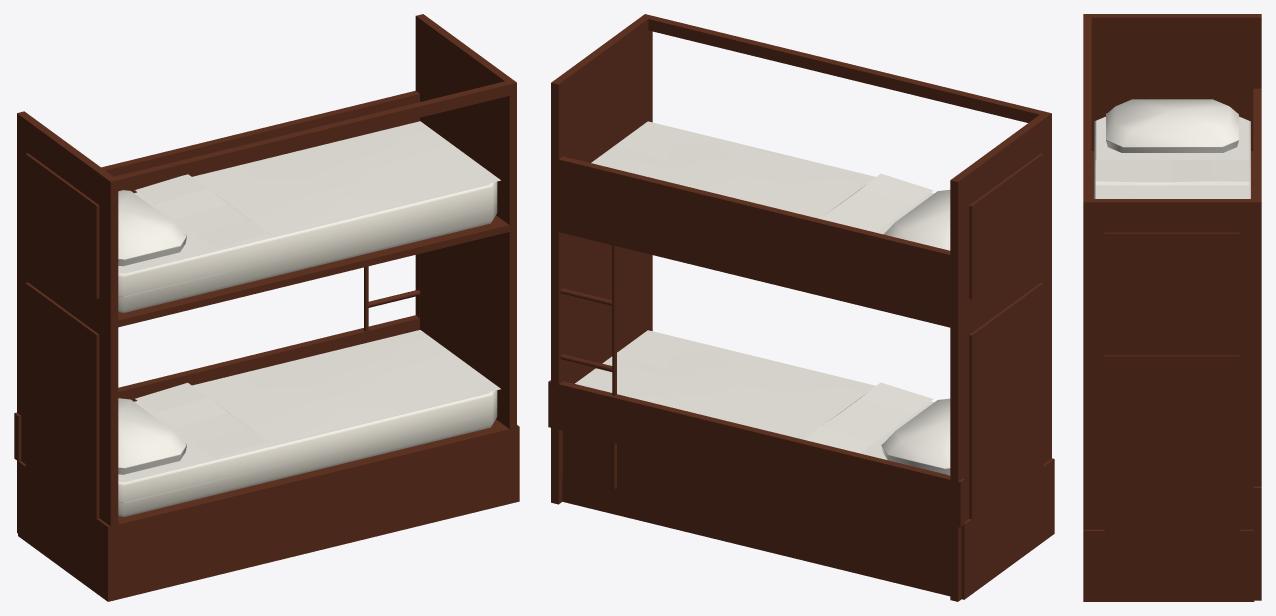
Rendered from parametric-berth_double-1st.glb.
The picture shows the model from 3 angles, left to right: view 1: azimuth 30°, elevation 25°; view 2: azimuth 150°, elevation 25°; view 3: azimuth 270°, elevation 25°; orthographic projection. The views are drawn at different scales.
Parts seen in each view (by area): view 1: parametric-berth_double-1st; view 2: parametric-berth_double-1st; view 3: parametric-berth_double-1st.
Part boxes in pixels (left/top/right/bottom): parametric-berth_double-1st: left=14, top=14, right=519, bottom=601; parametric-berth_double-1st: left=548, top=14, right=1054, bottom=601; parametric-berth_double-1st: left=1083, top=14, right=1261, bottom=601.
Size of the model in its own units: 1.9 by 1.85 by 0.75.
